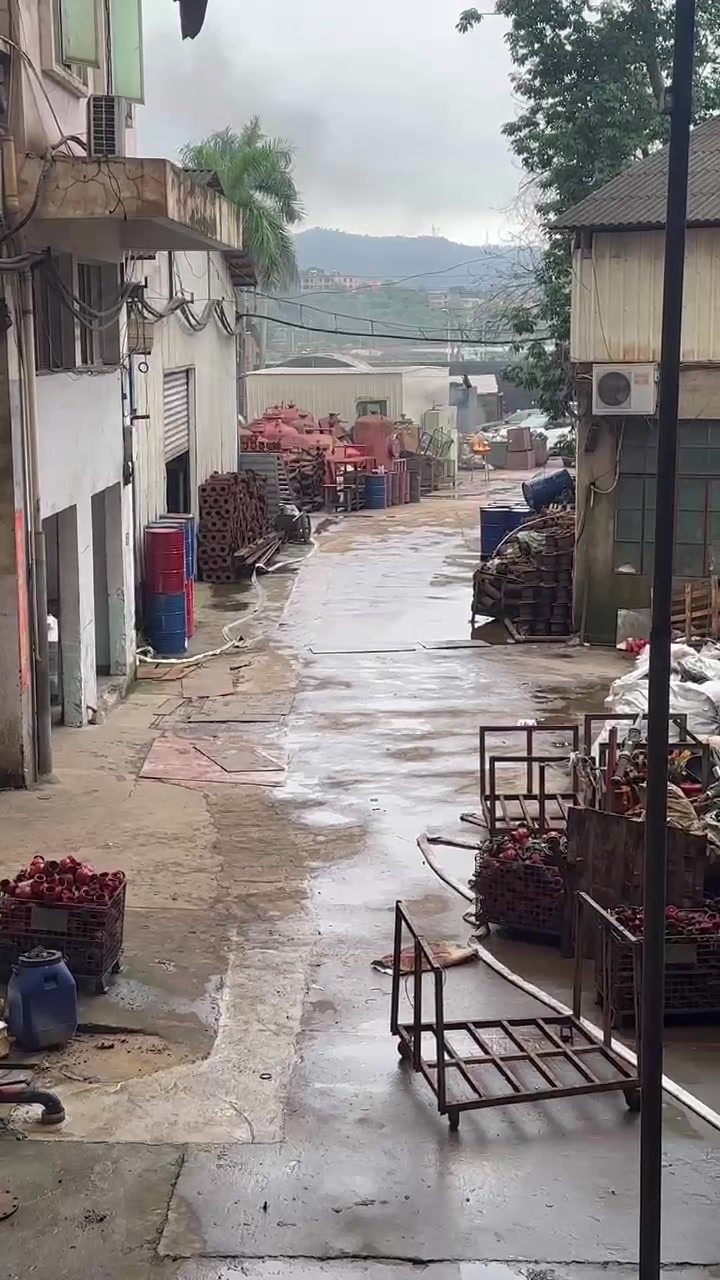fire: (473, 438, 490, 450)
